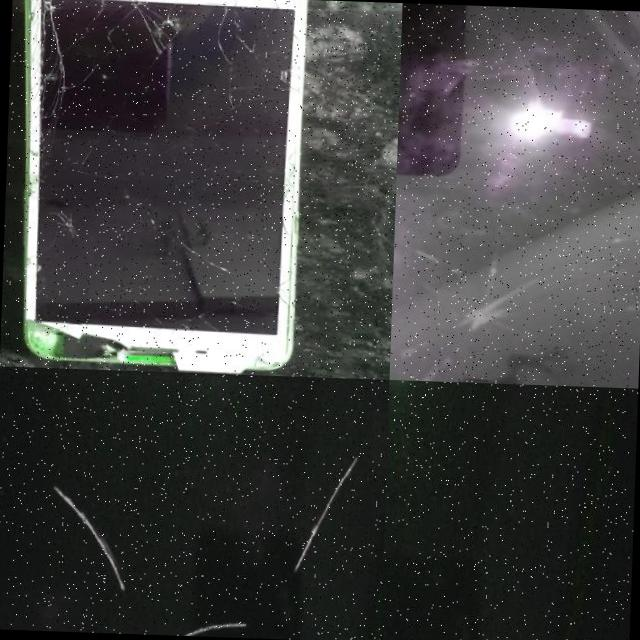scratch: (276, 446, 364, 580), (46, 478, 129, 610), (143, 599, 251, 638)
screen crack: (388, 198, 640, 388), (120, 0, 314, 115), (0, 304, 299, 376), (98, 190, 245, 298), (6, 0, 87, 136)
